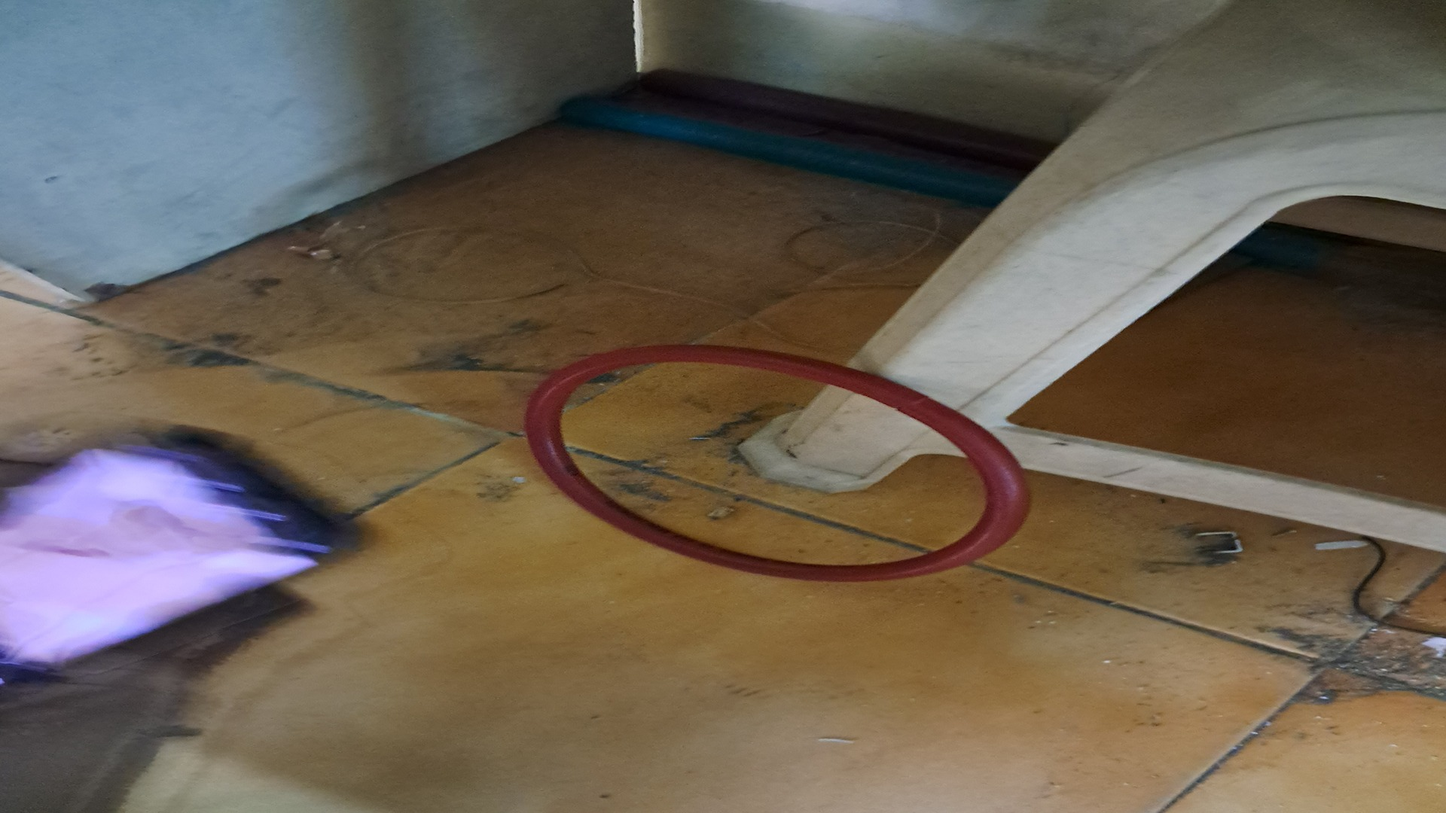Red ring: (523, 347, 1028, 587)
